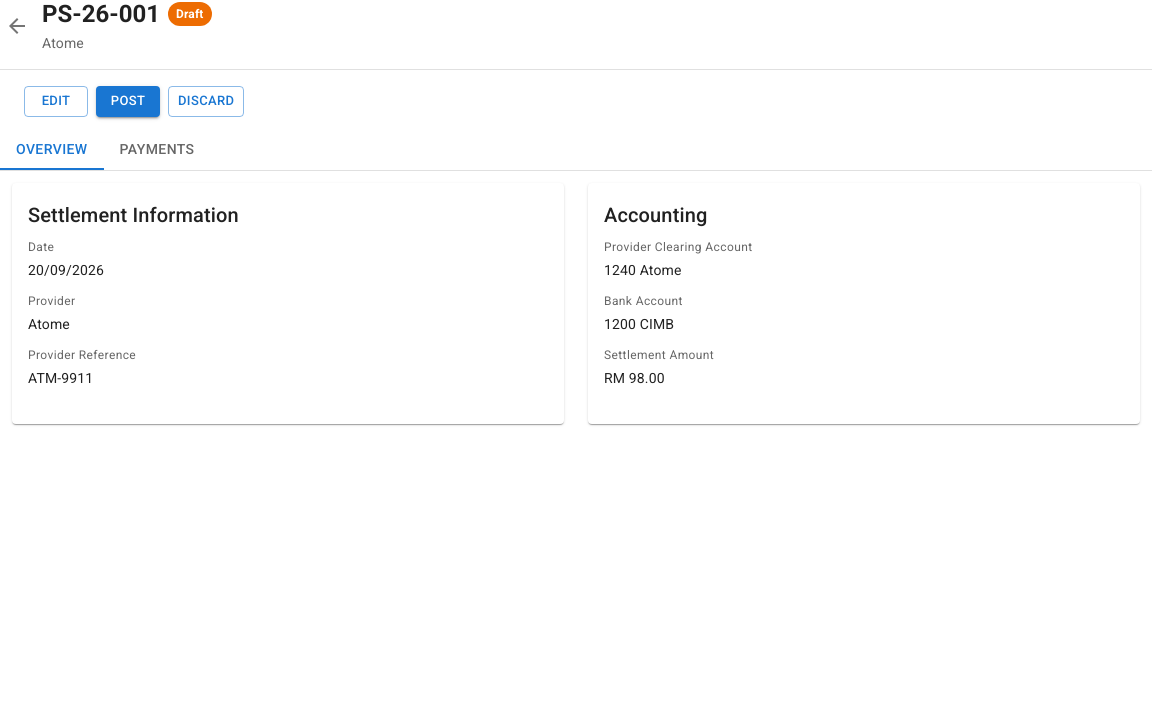
Scenario: ProviderSettlementDetailView › document actions › Post › does nothing when cancelled
Click the button "Post".
click(128, 101)  # box top-left (96, 86), bottom-right (160, 117)
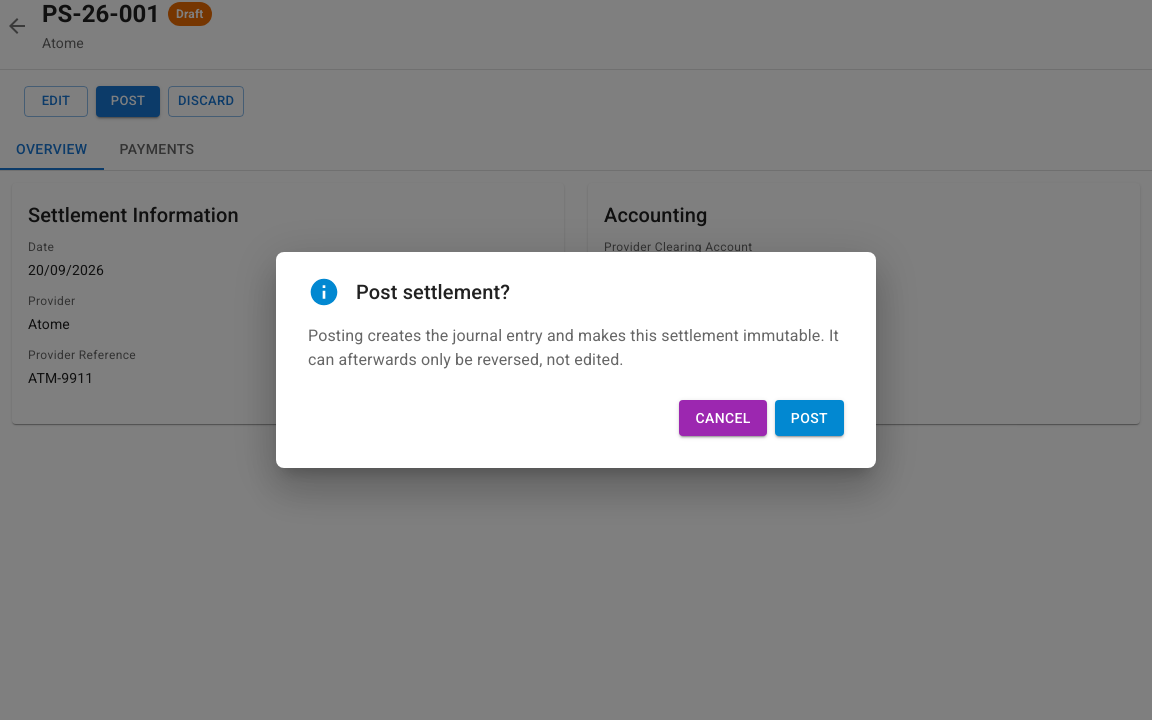
Click the button "Cancel".
click(723, 418)  # box top-left (679, 400), bottom-right (767, 436)
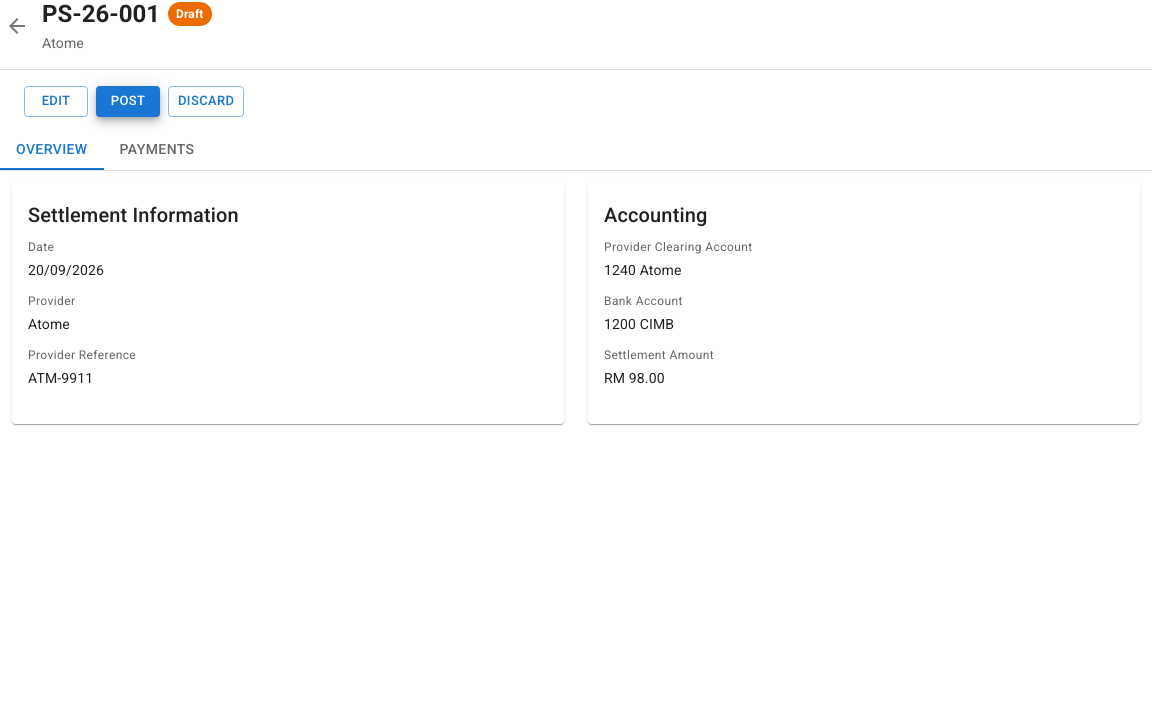
Result: the dialog is gone
